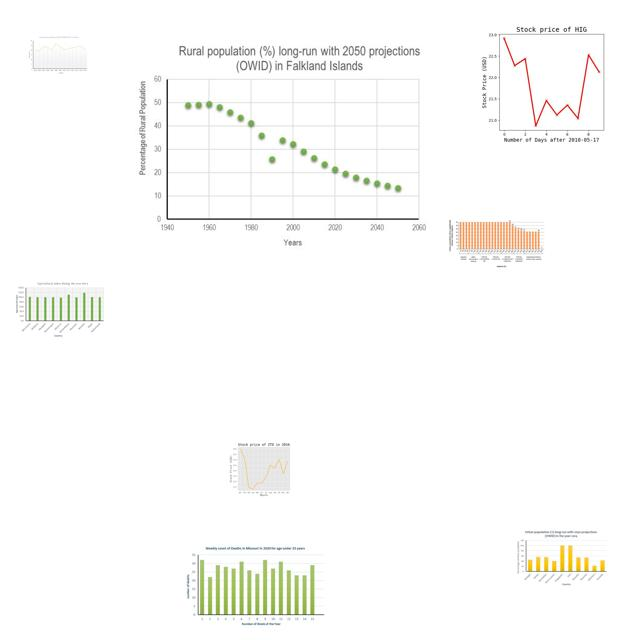Graph: (135, 41, 436, 251), (466, 19, 633, 144), (183, 544, 328, 629), (514, 529, 608, 586), (12, 281, 105, 337), (448, 219, 546, 268), (225, 440, 301, 497), (27, 35, 88, 75)
